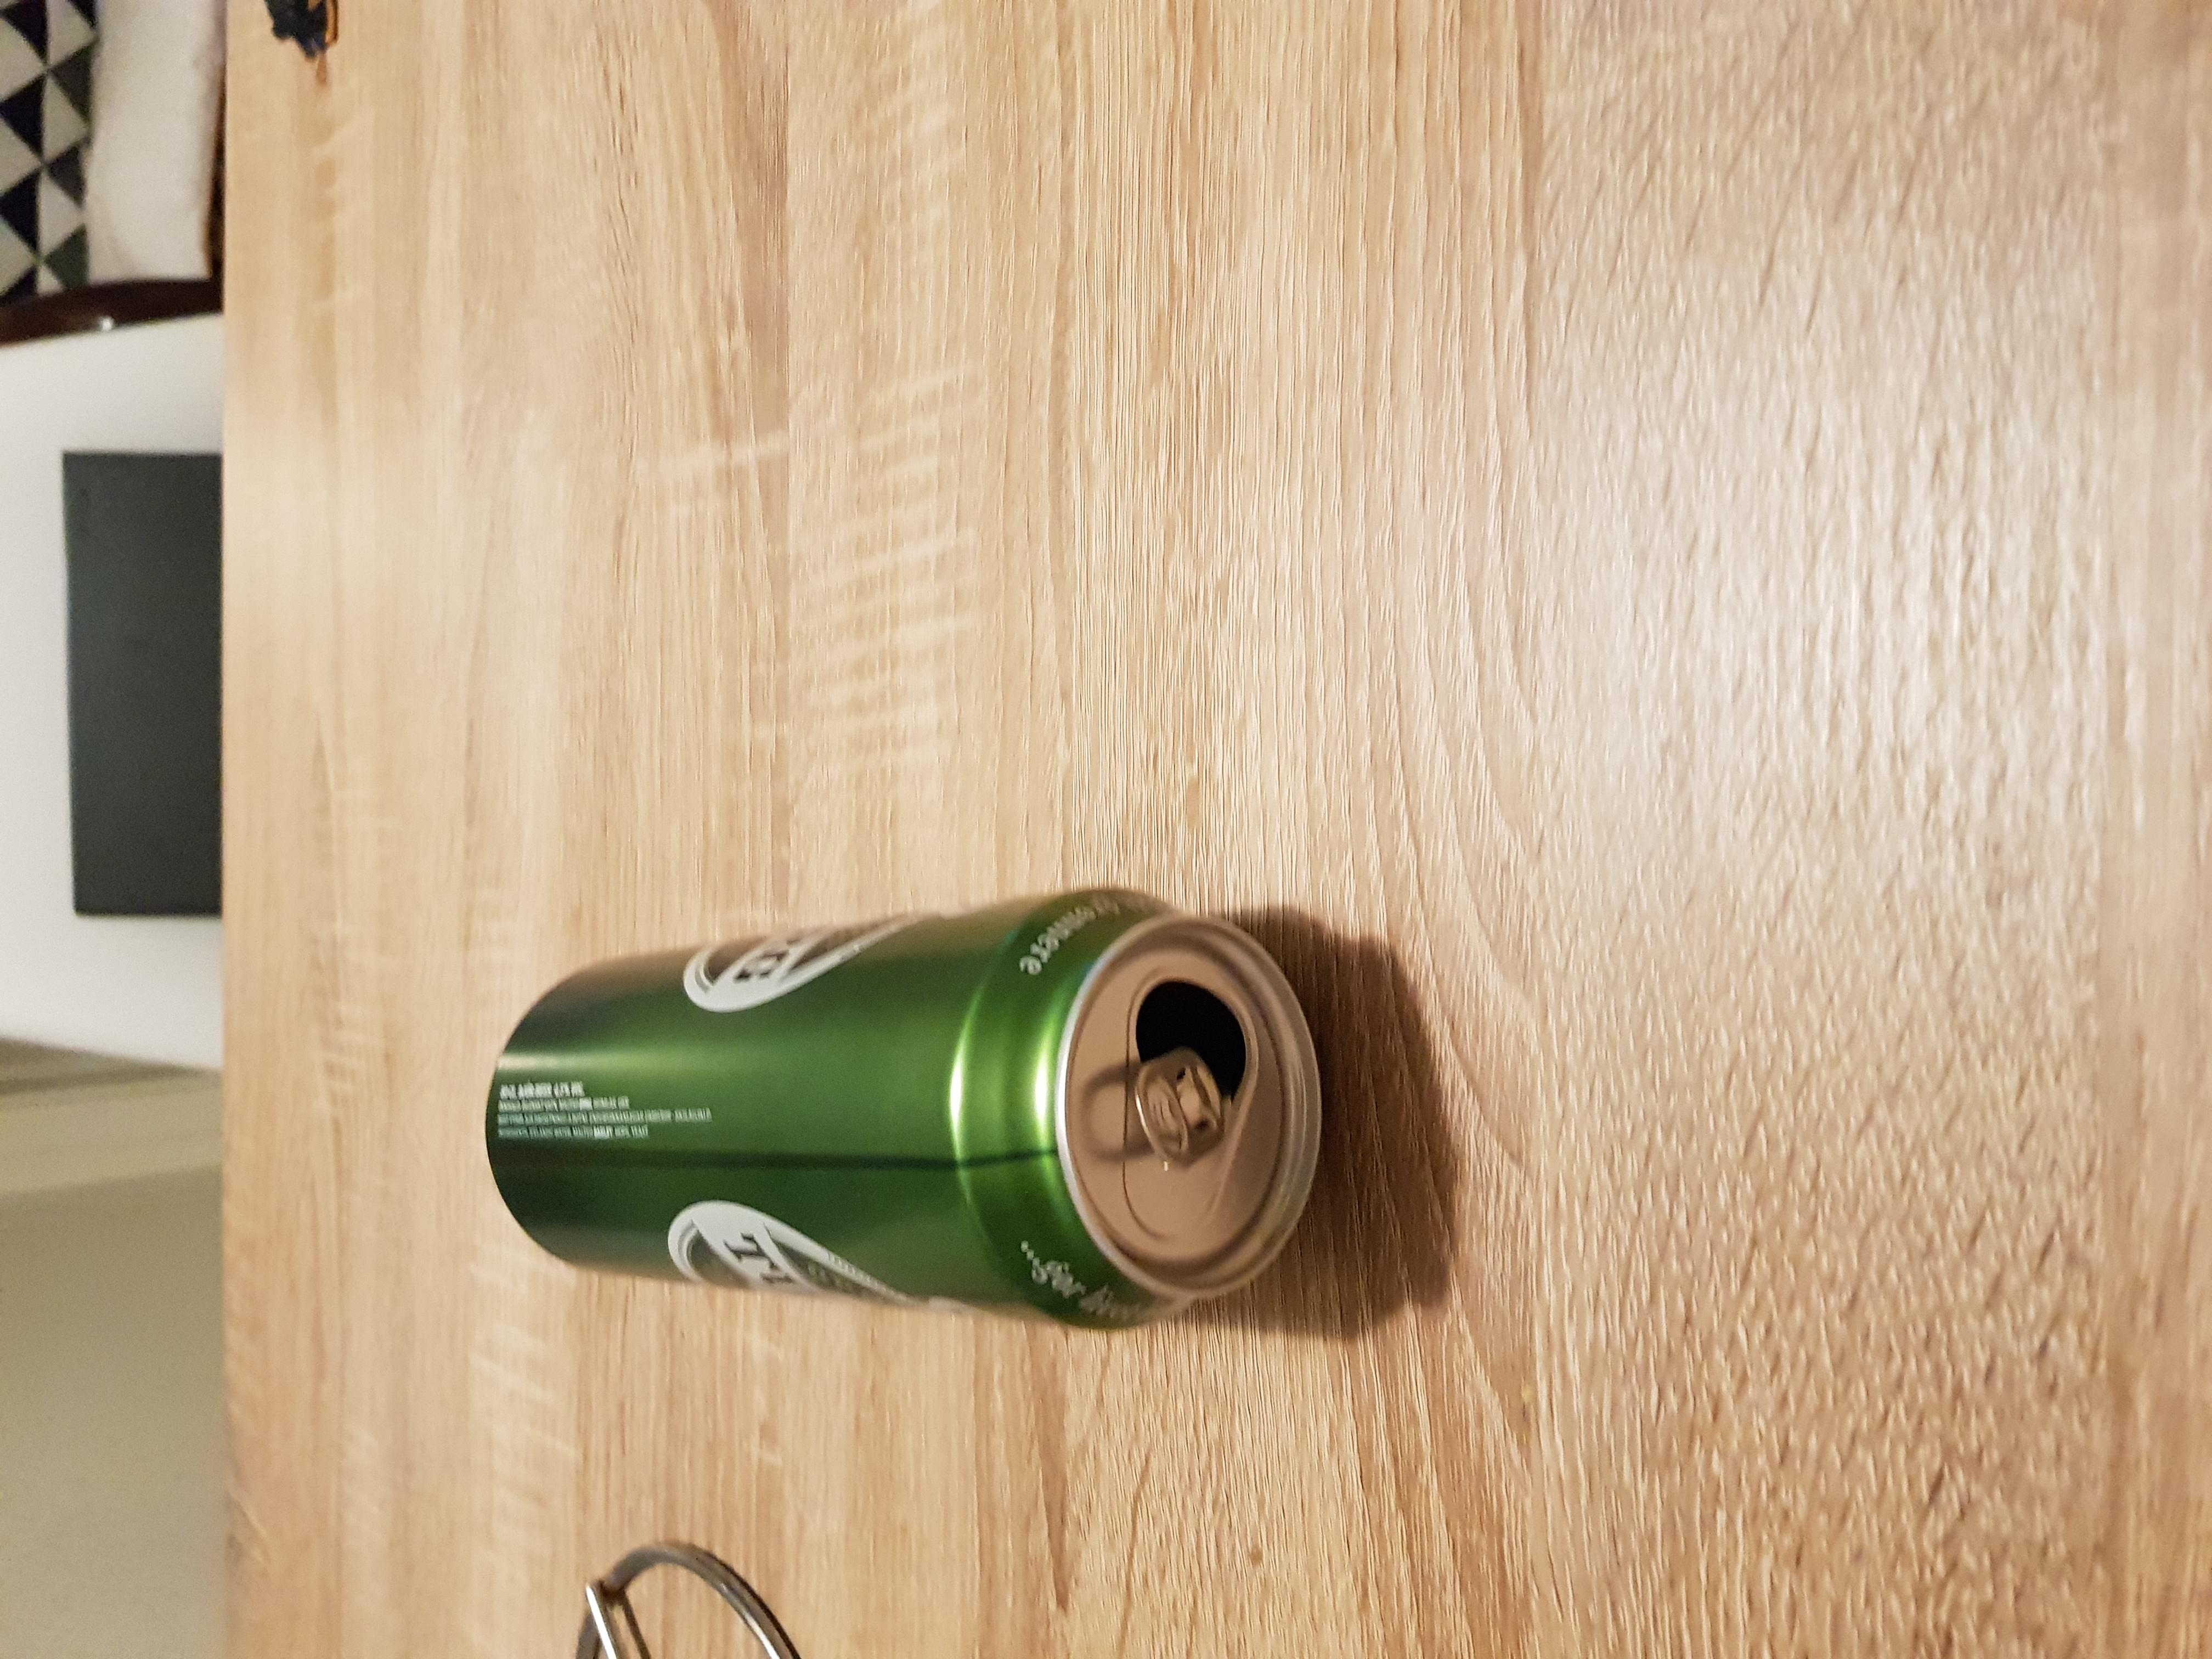can: (470, 882, 1334, 1338)
